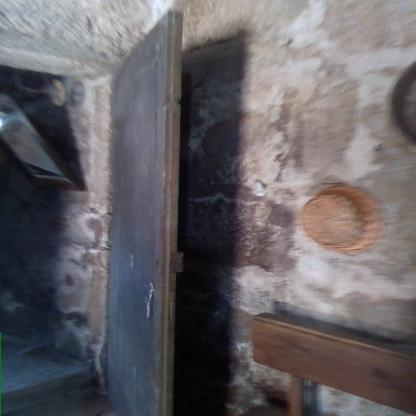semi: (0, 20, 192, 416)
